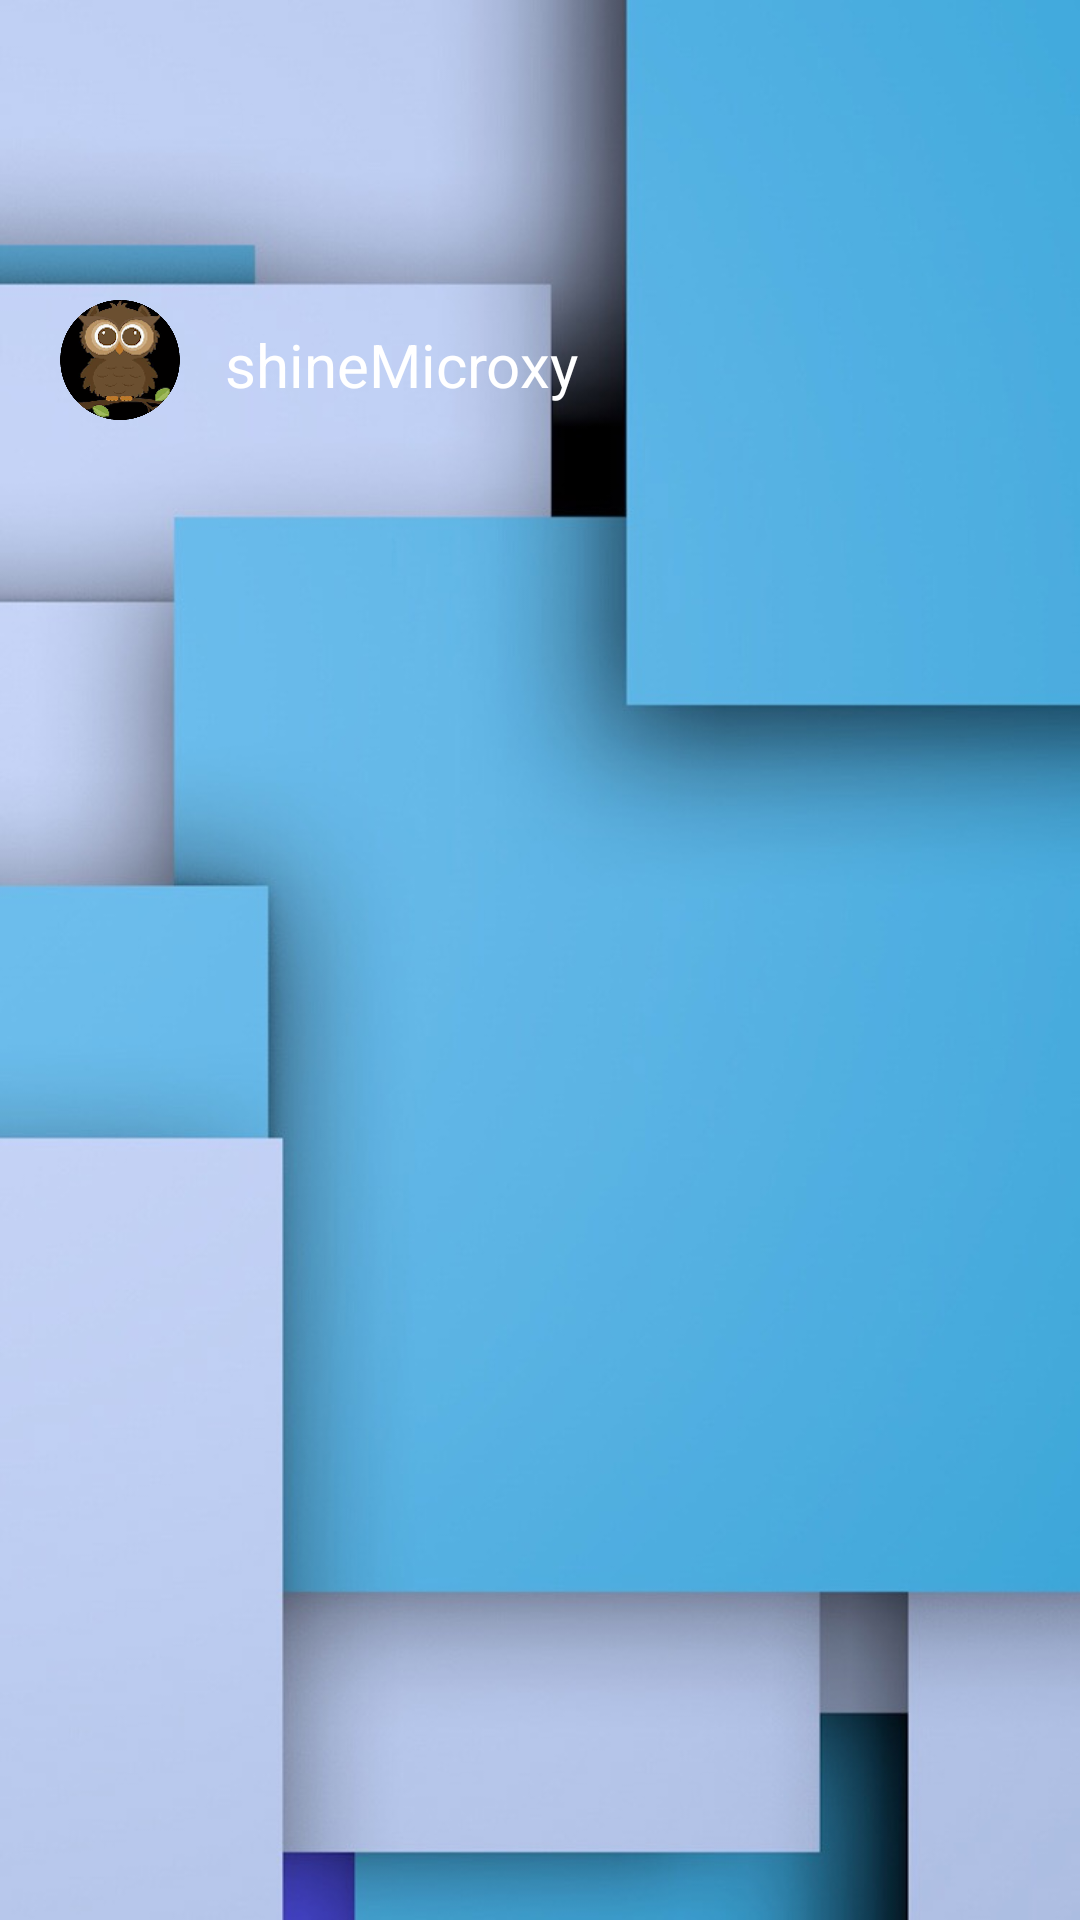

Point at icon controls on the screen. Image size 1080 x 1920, points as (x,y).
owl: (120,360)
